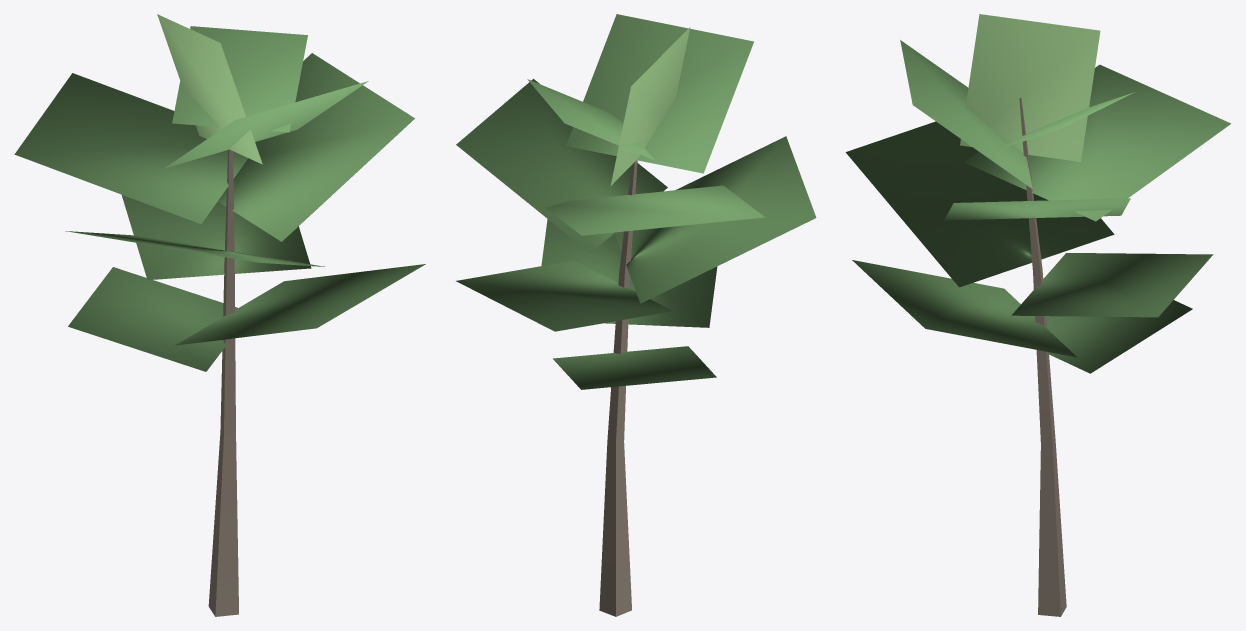
File: tree_pine_a_lod2.glb
The picture shows the model from 3 angles, left to right: view 1: azimuth 30°, elevation 25°; view 2: azimuth 150°, elevation 25°; view 3: azimuth 270°, elevation 25°; orthographic projection. The views are drawn at different scales.
Parts seen in each view (by area): view 1: tree_pine_a_lod2; view 2: tree_pine_a_lod2; view 3: tree_pine_a_lod2.
Part boxes in pixels (left/top/right/bottom): tree_pine_a_lod2: left=14, top=14, right=425, bottom=616; tree_pine_a_lod2: left=456, top=14, right=816, bottom=616; tree_pine_a_lod2: left=845, top=14, right=1230, bottom=616.
Bounding box in the file's own units: 8.47 × 15 × 9.08.
